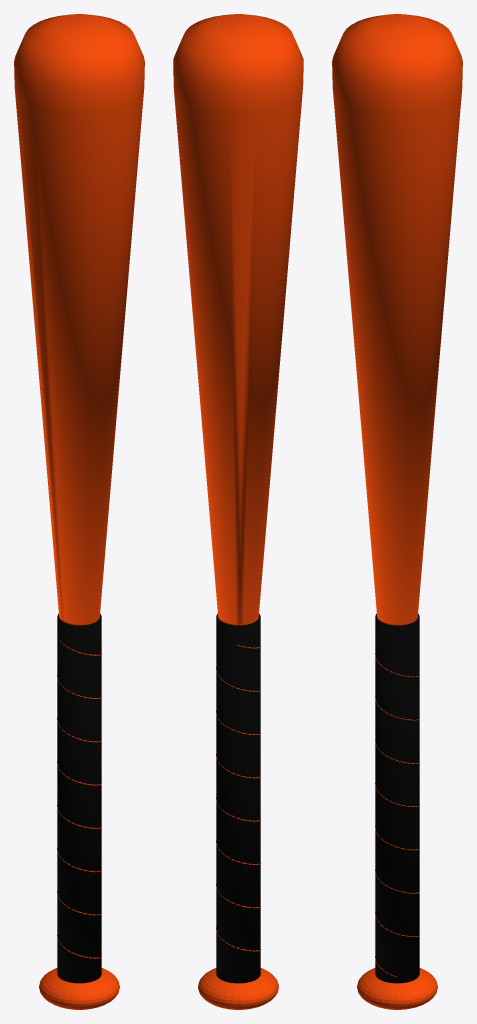
File: 炎のバット.fbx
The picture shows the model from 3 angles, left to right: view 1: azimuth 90°, elevation 25°; view 2: azimuth 150°, elevation 25°; view 3: azimuth 270°, elevation 25°; orthographic projection.
Parts seen in each view (by area): view 1: 先, グリップテープ, グリップエンド, テープの間; view 2: 先, グリップテープ, グリップエンド, テープの間; view 3: 先, グリップテープ, グリップエンド, テープの間.
Part boxes in pixels (x1,y1,x2,y2): 先: (14,14,144,624); グリップテープ: (57,613,101,983); グリップエンド: (39,968,119,1009); テープの間: (57,639,101,958); 先: (173,14,303,624); グリップテープ: (216,613,260,983); グリップエンド: (198,968,278,1009); テープの間: (216,645,260,951); 先: (332,14,462,624); グリップテープ: (375,613,419,983); グリップエンド: (357,968,437,1009); テープの間: (375,654,419,977).
Bounding box in the file's own units: 168 × 1383 × 168.
